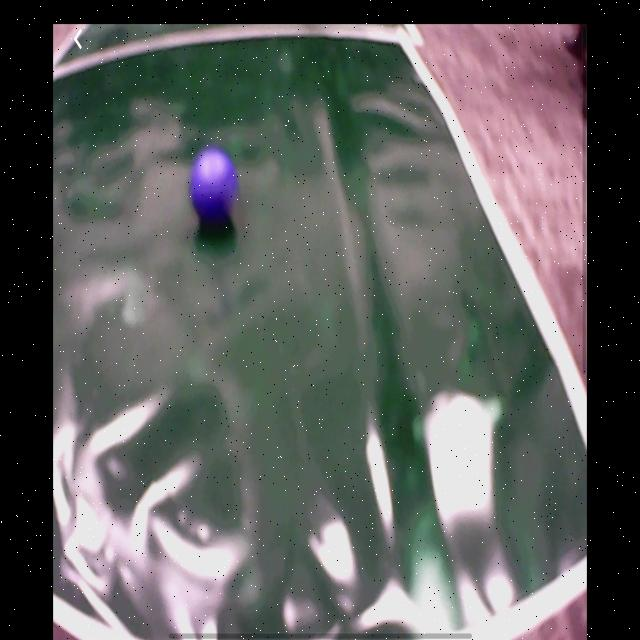ball: (190, 149, 240, 221)
